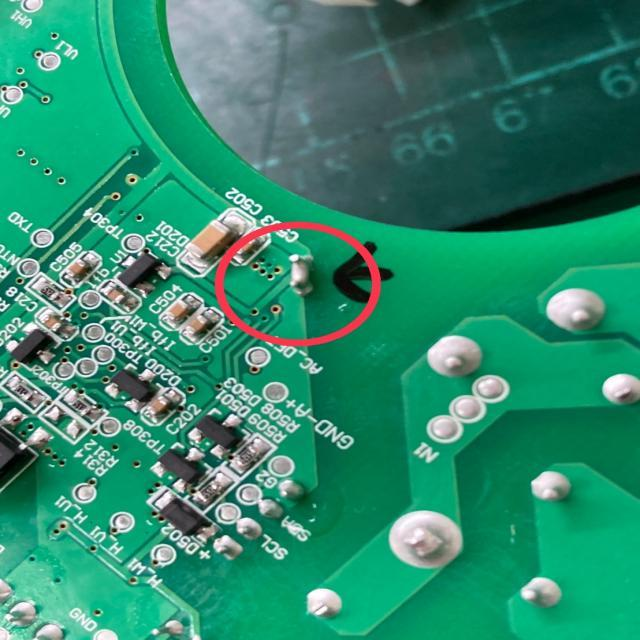Short_circuit: (289, 254, 313, 296)
